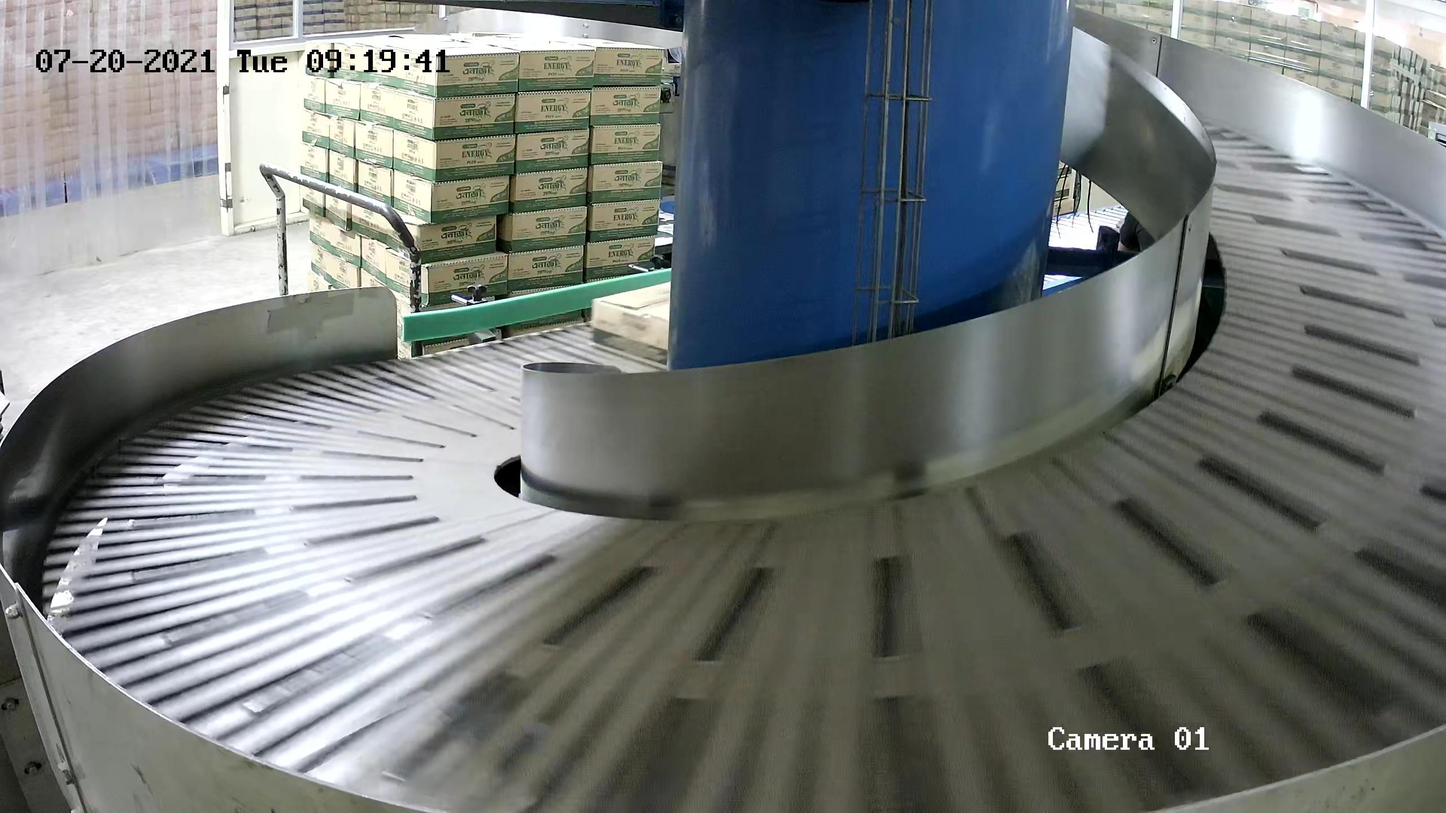Box: (591, 280, 671, 370)
